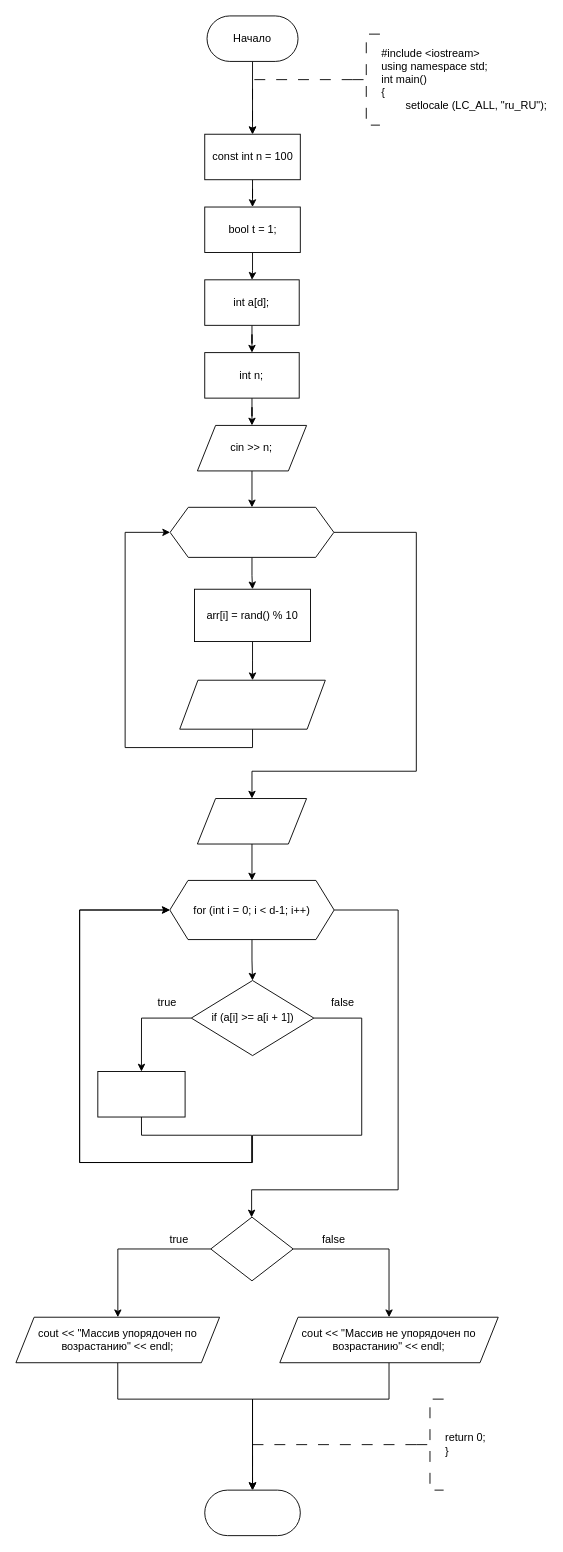
The diagram is 563 pixels wide and 1552 high, and some of its shapes have lost their labels. The centre of each missing label's shape, as x and y in pixels:
cout << arr[i] << " ";: (252,704)
cout << endl;: (251,821)
for (int i = 0; i < n; i++): (251,531)
if (t==1): (251,1248)
t = 0;: (141,1094)
Конец: (252,1512)
